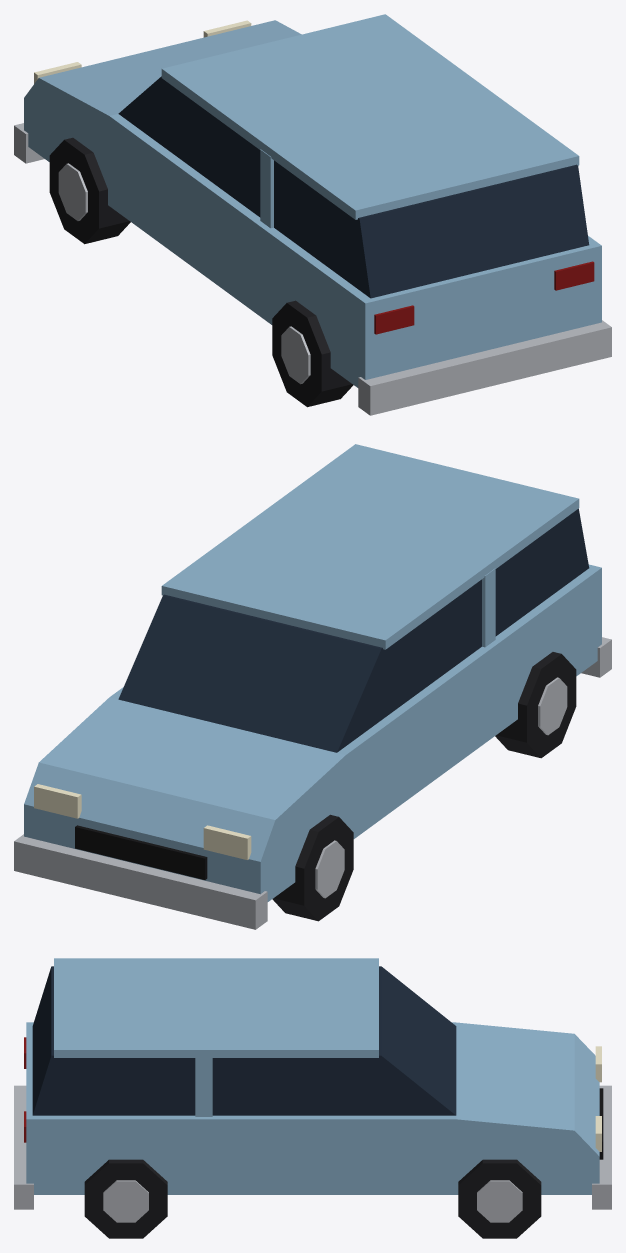
File: CarWagonPowder.obj
3 views of the same model, one above another, from view 1: azimuth 30°, elevation 25°; view 2: azimuth 150°, elevation 25°; view 3: azimuth 270°, elevation 25° (orthographic). The views are drawn at different scales.
Parts seen in each view (by area): view 1: CarWagonPowder; view 2: CarWagonPowder; view 3: CarWagonPowder.
Boxes of the visible parts, left/top/right/bottom form: CarWagonPowder: left=14, top=14, right=611, bottom=415; CarWagonPowder: left=14, top=444, right=611, bottom=929; CarWagonPowder: left=14, top=958, right=611, bottom=1238.
Bounding box in the file's own units: 2.01 × 1.61 × 4.8.
Materials: 1 (1 with a texture image).
